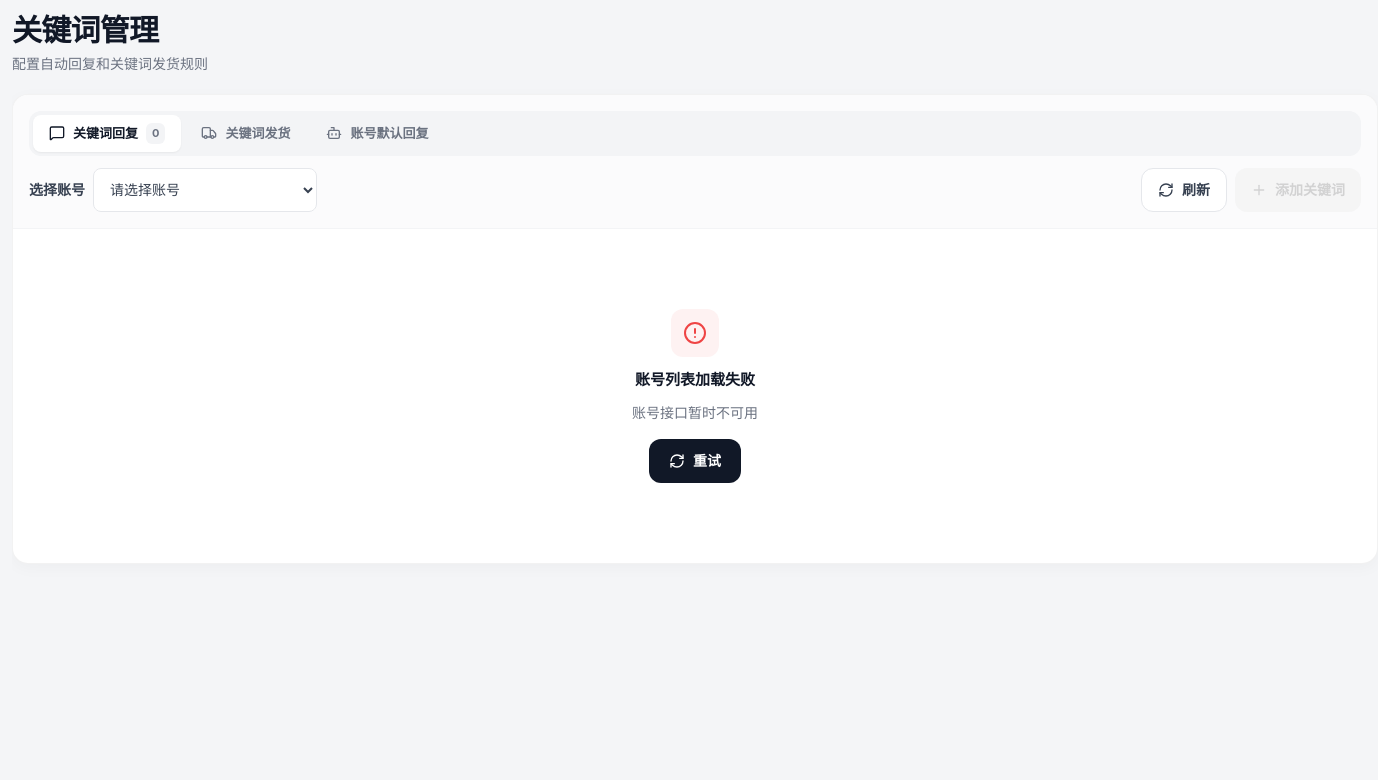
Test: Keywords 读取失败的可见错误态与竞态防护 › 账号列表读取失败时展示可见错误与重试入口，而不是「请选择账号」
Expected: the text "账号接口暂时不可用" is shown, top-left (632, 403), bottom-right (758, 423)
Expected: the message shows "账号列表加载失败", top-left (635, 370), bottom-right (755, 388)
Click the button "重试" at (695, 461), box top-left (649, 439), bottom-right (741, 483)
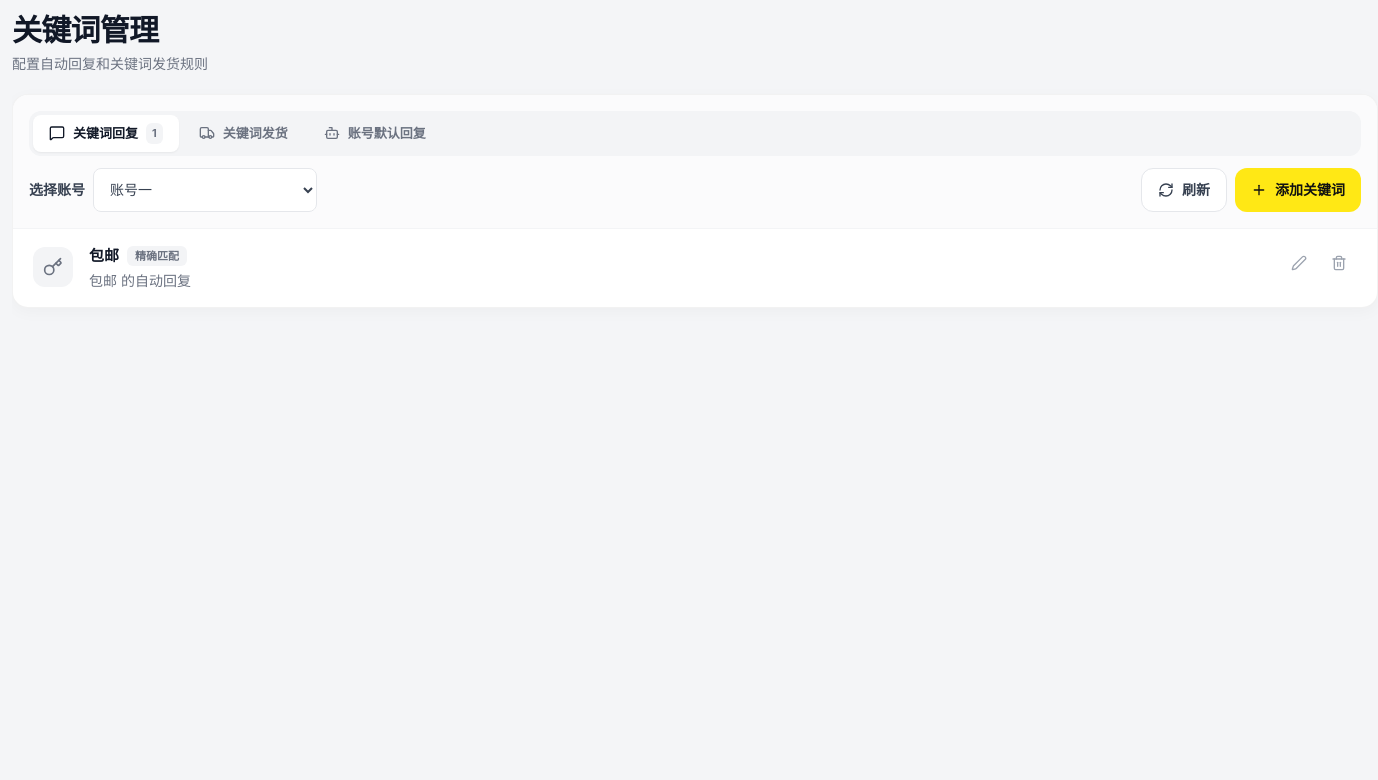
Now the heading "包邮" is shown, box top-left (89, 244), bottom-right (119, 267)
